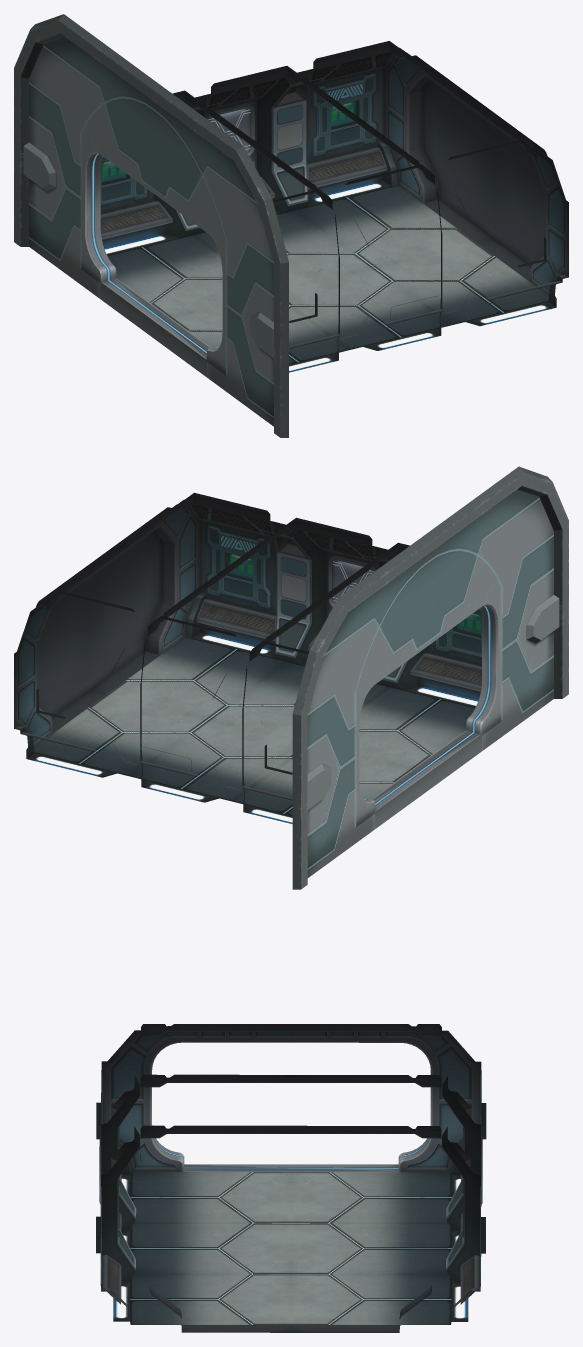
3 views of the same model, one above another, from view 1: azimuth 30°, elevation 25°; view 2: azimuth 150°, elevation 25°; view 3: azimuth 270°, elevation 25° (orthographic). The views are drawn at different scales.
Parts seen in each view (by area): view 1: Gallery; view 2: Gallery; view 3: Gallery.
Part boxes in pixels (bbox=[...]): Gallery: bbox=[14, 14, 568, 437]; Gallery: bbox=[14, 466, 568, 889]; Gallery: bbox=[96, 1024, 486, 1332].
Bounding box in the file's own units: 11.44 × 8.15 × 15.53.
Materials: 3 (2 with a texture image).
